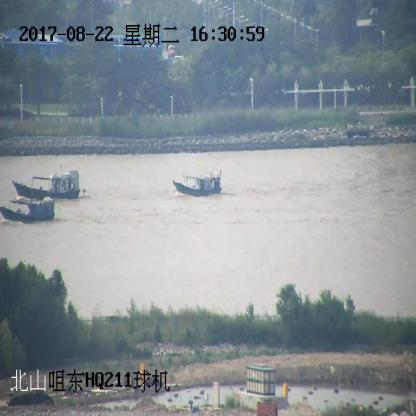Fishing Boat: (13, 170, 79, 202), (0, 197, 57, 223), (173, 171, 223, 199)
